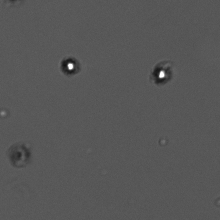Dead Cell: (4, 139, 35, 170)
Living Cell: (56, 53, 85, 80), (146, 60, 175, 87)
